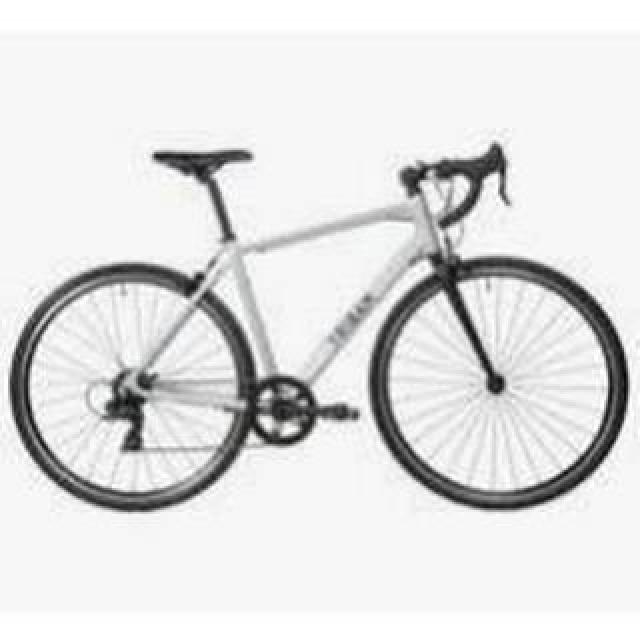Person: (3, 141, 631, 515)
